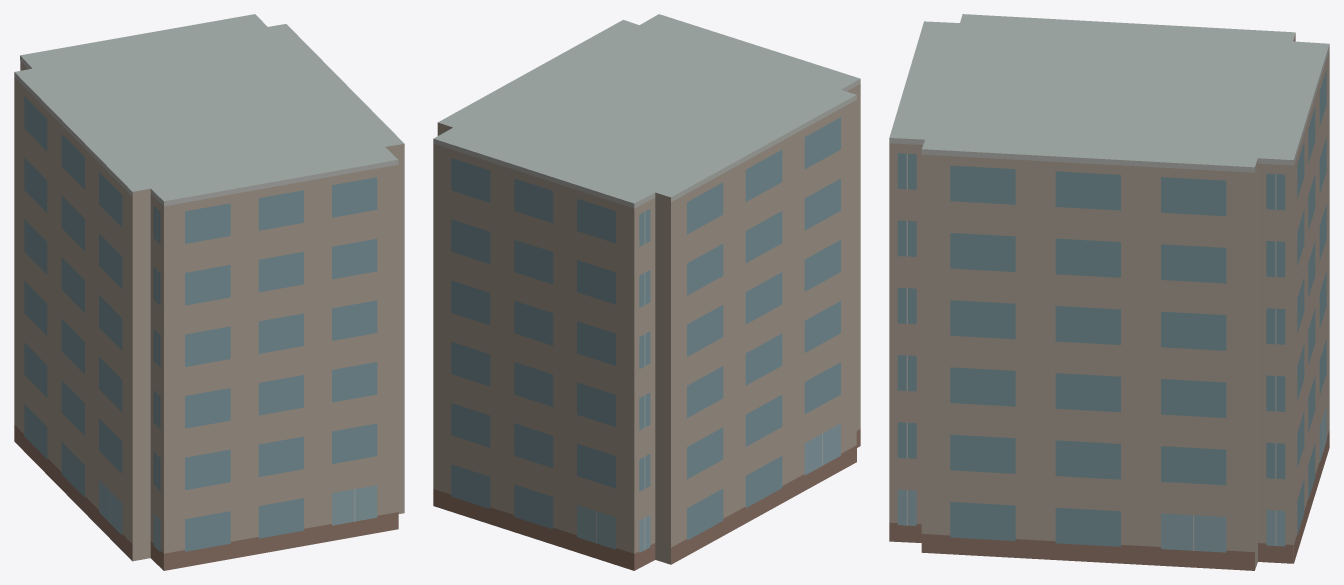
File: survey-upis-32995340.glb
The picture shows the model from 3 angles, left to right: view 1: azimuth 30°, elevation 25°; view 2: azimuth 150°, elevation 25°; view 3: azimuth 270°, elevation 25°; orthographic projection. The views are drawn at different scales.
Parts seen in each view (by area): view 1: survey-upis-32995340.tmp; view 2: survey-upis-32995340.tmp; view 3: survey-upis-32995340.tmp.
Part boxes in pixels (bbox=[...]): survey-upis-32995340.tmp: bbox=[14, 14, 404, 570]; survey-upis-32995340.tmp: bbox=[433, 14, 860, 570]; survey-upis-32995340.tmp: bbox=[889, 14, 1329, 570].
Size of the model in its own units: 14.92 by 18.3 by 18.11.
